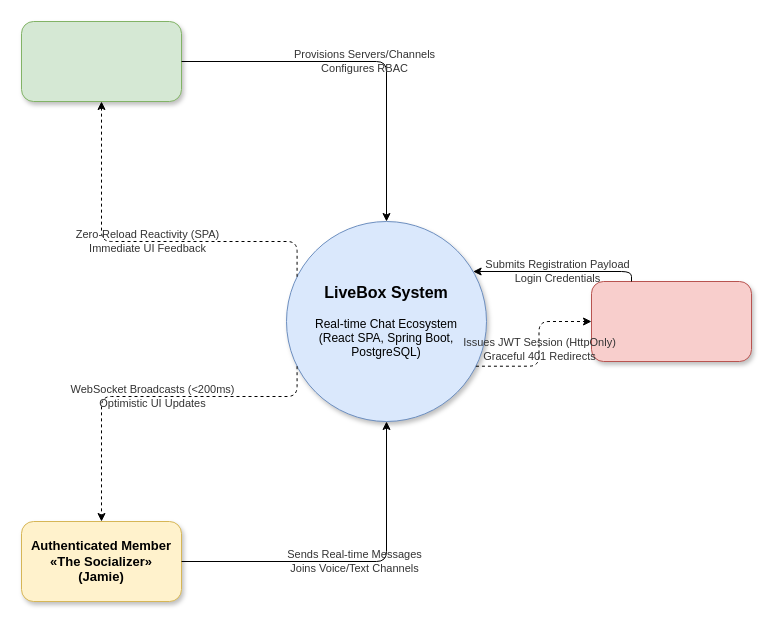
Image size: 775x626. Some labels were removed from this diagram. The centre of each missing label's shape, as x and y in pixels:
"Anonymous Visitor «The Explorer» (Sam)" goes at point 672,322.
"Community Admin «The Organizer» (Alex)" goes at point 102,62.
